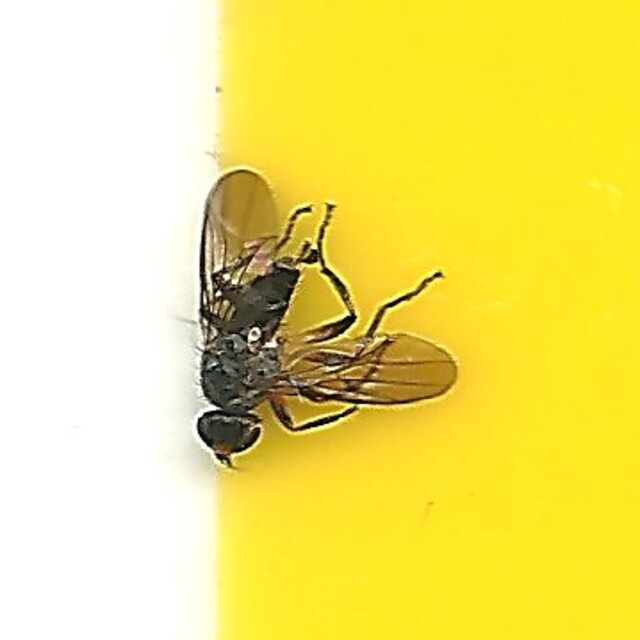Brachycera: (178, 166, 462, 474)
